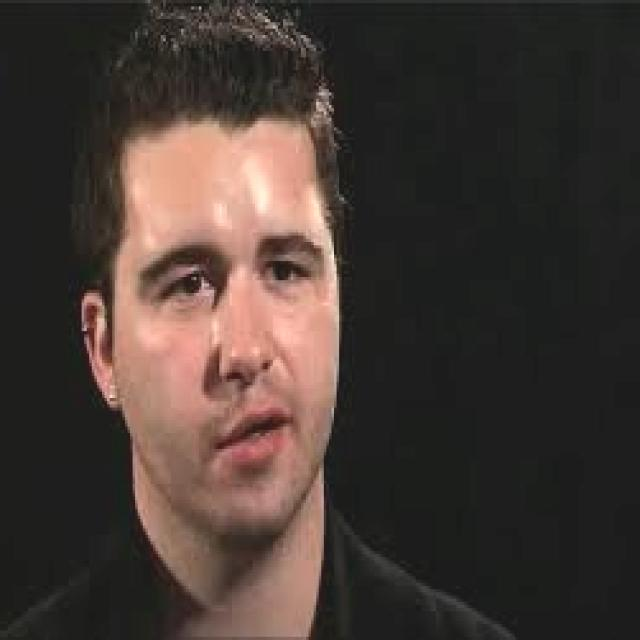stroke_face: (98, 70, 332, 546)
